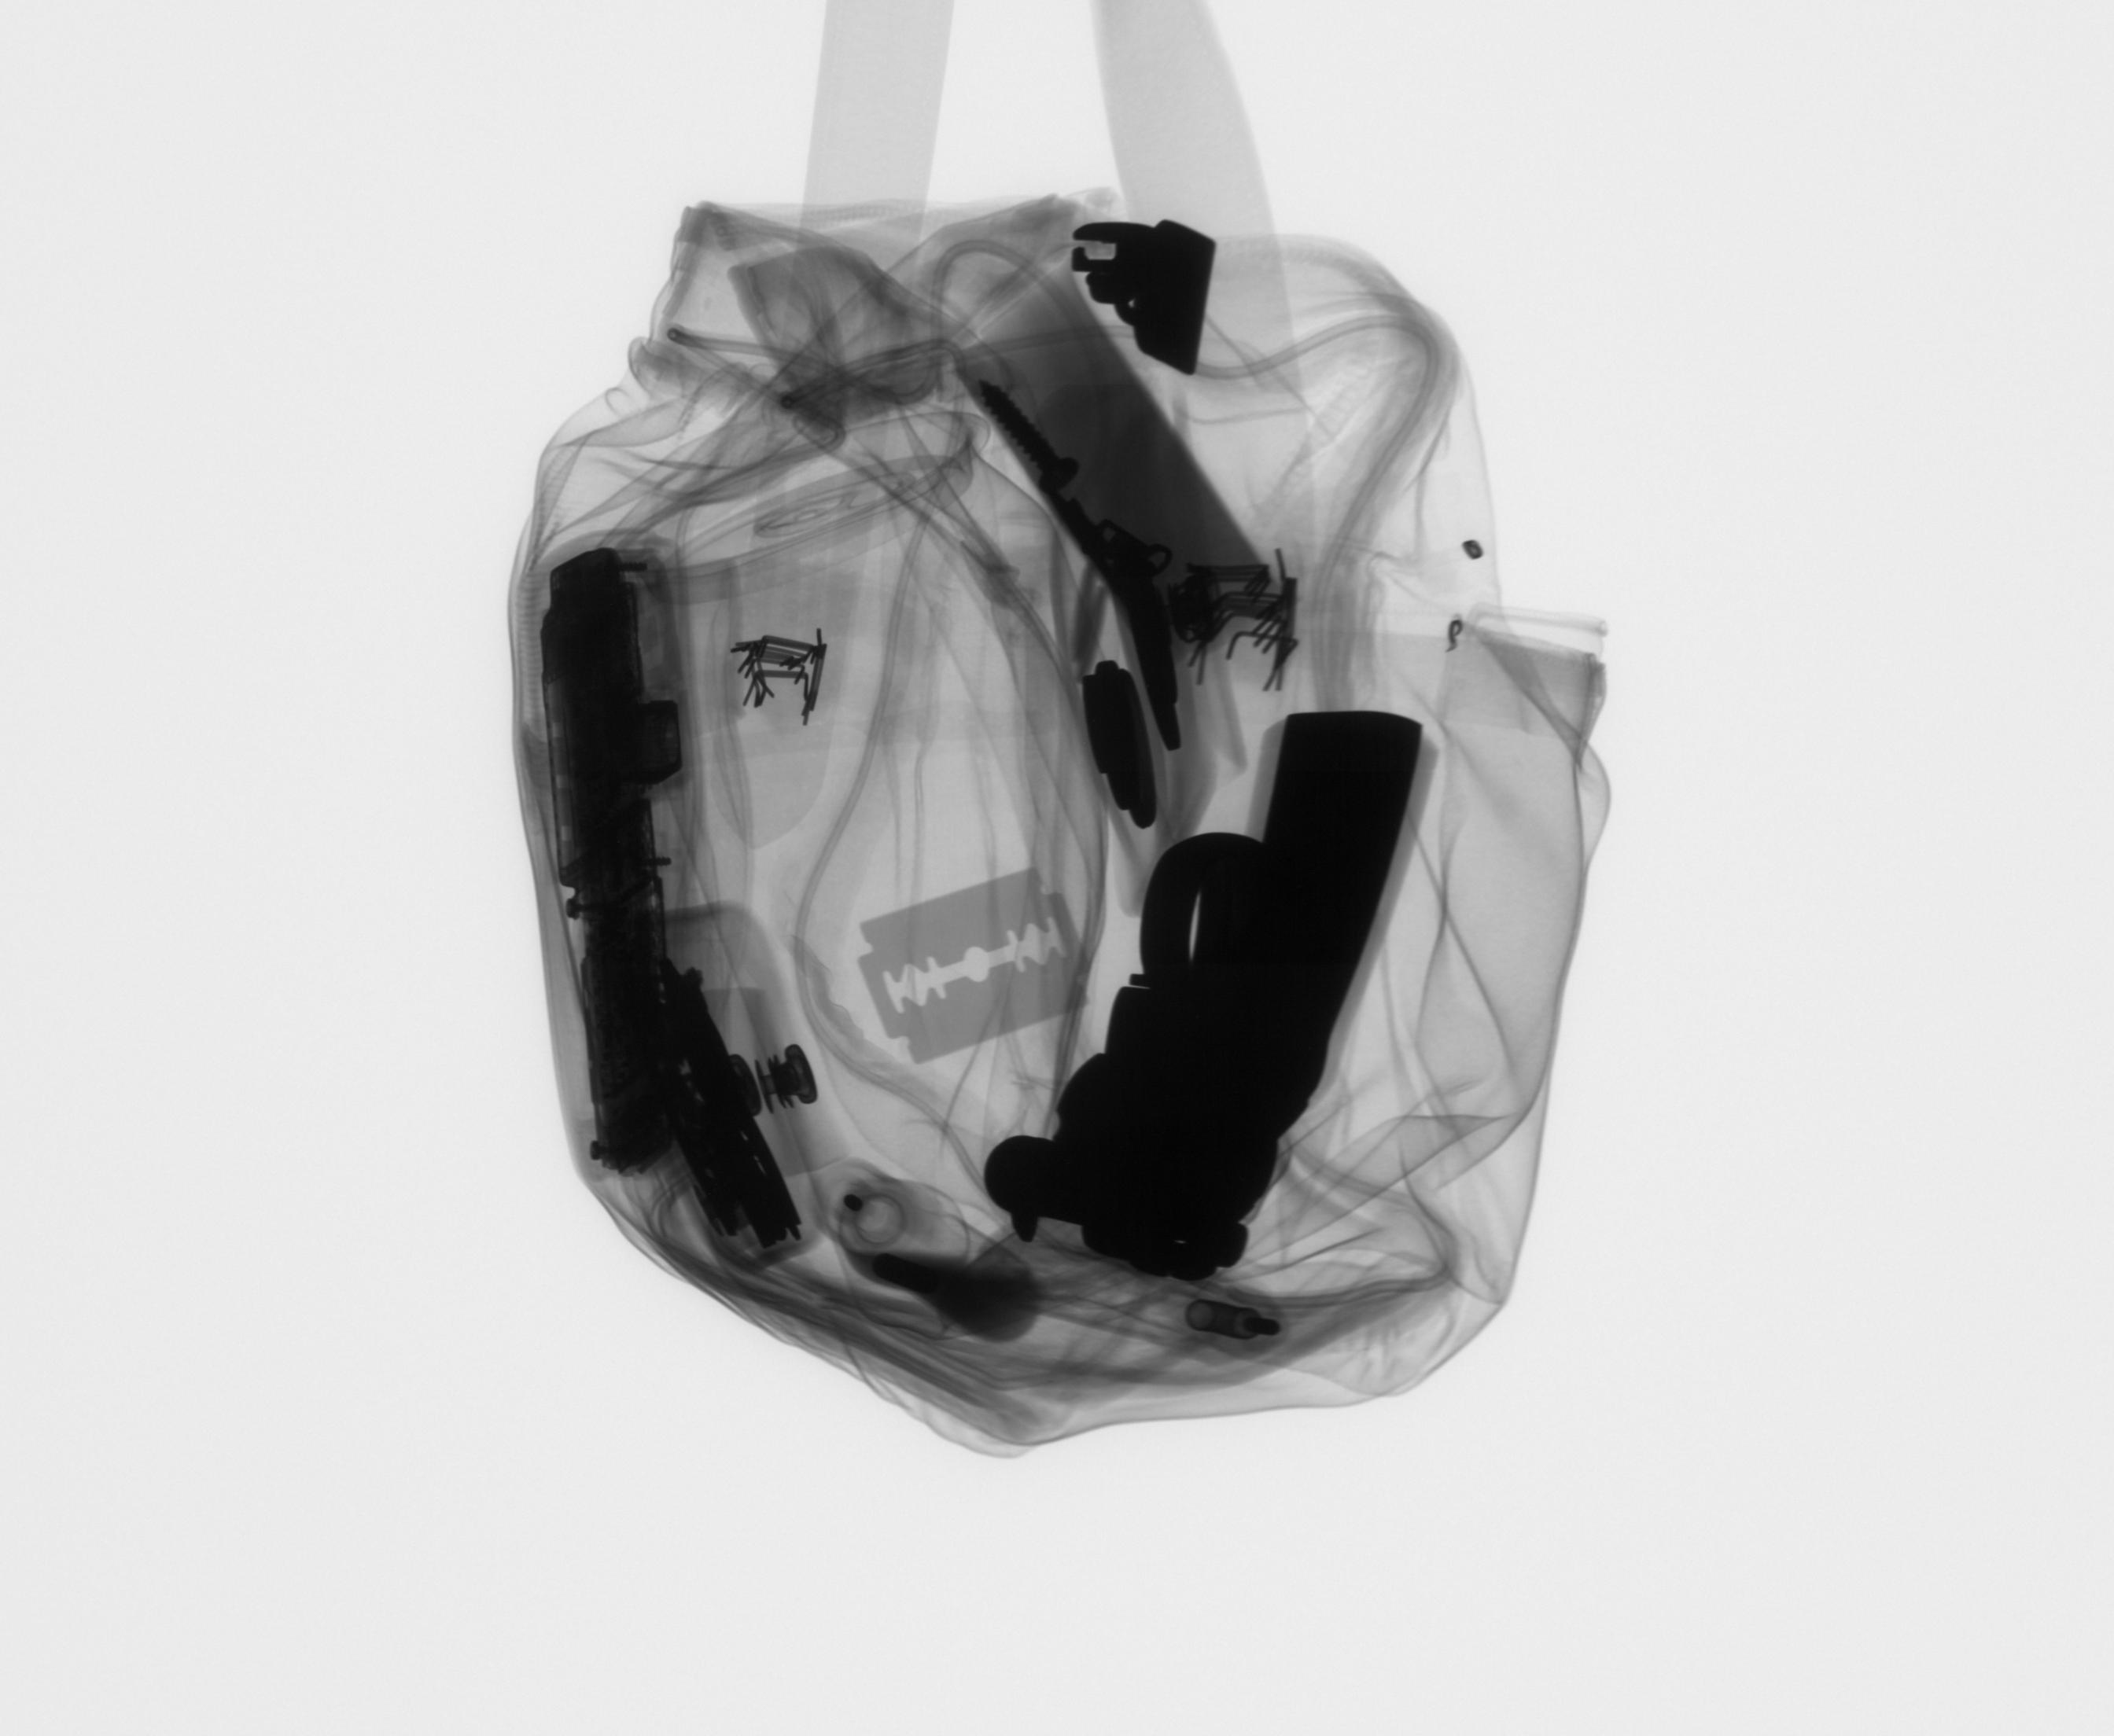Handgun: (980, 699, 1450, 1294)
RazorBlade: (852, 860, 1096, 1078)
